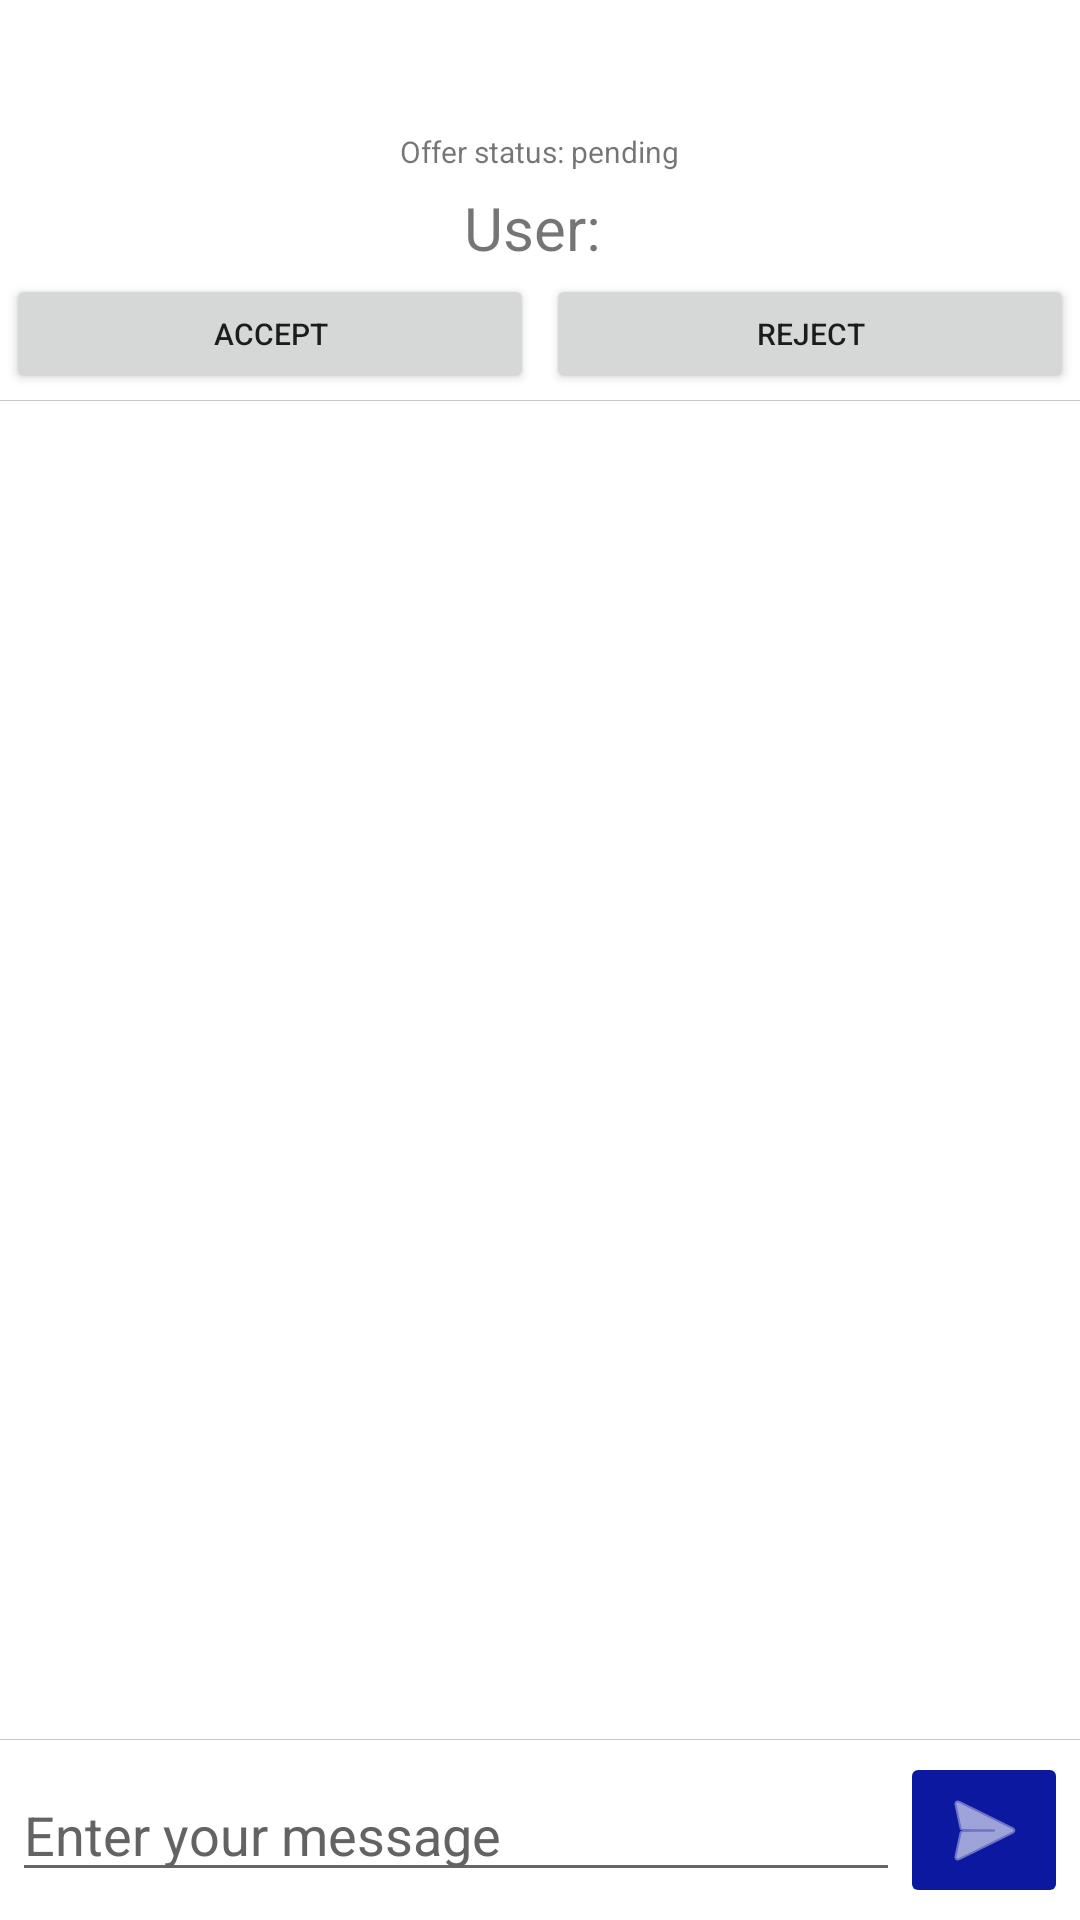

Named icons in this screenshot (1080*1920) and their bounding boxes, (x1, y1, x2, y2):
send: (912, 1770, 1056, 1890)
